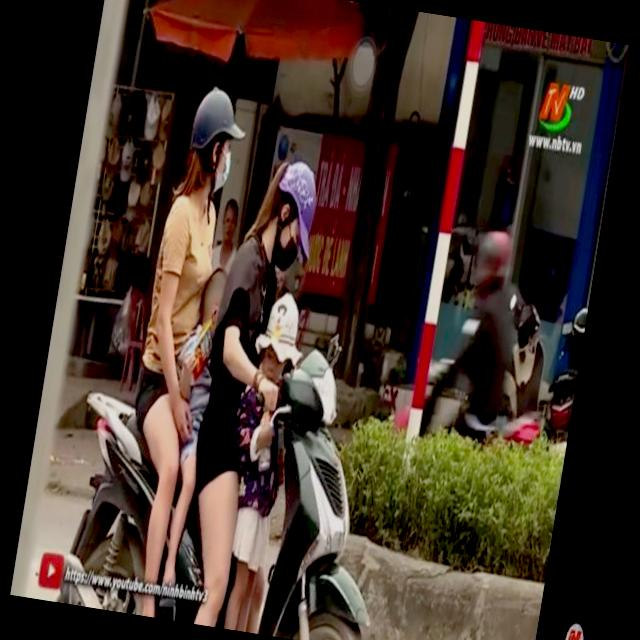motorcycle: (52, 301, 424, 640)
person: (91, 68, 272, 581), (169, 148, 337, 609), (208, 285, 326, 633), (139, 264, 236, 576)
rider_region: (49, 77, 454, 640)
